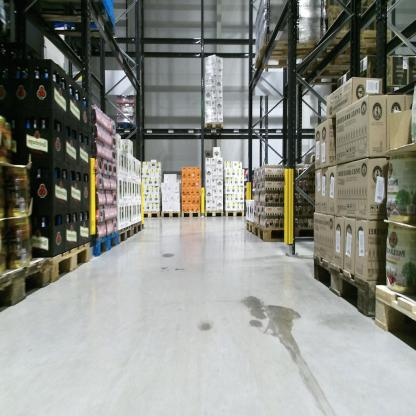pallet: (312, 251, 378, 328), (7, 3, 109, 35), (1, 256, 51, 309), (375, 283, 416, 342), (305, 55, 370, 89), (252, 39, 319, 70), (47, 240, 91, 285), (321, 27, 389, 56), (252, 222, 319, 243), (92, 230, 119, 258), (118, 224, 132, 245), (115, 120, 137, 133), (203, 120, 225, 131), (160, 209, 183, 218), (181, 209, 202, 217), (224, 210, 246, 217), (245, 219, 254, 236), (132, 222, 143, 235), (205, 210, 224, 217), (141, 211, 161, 217)
